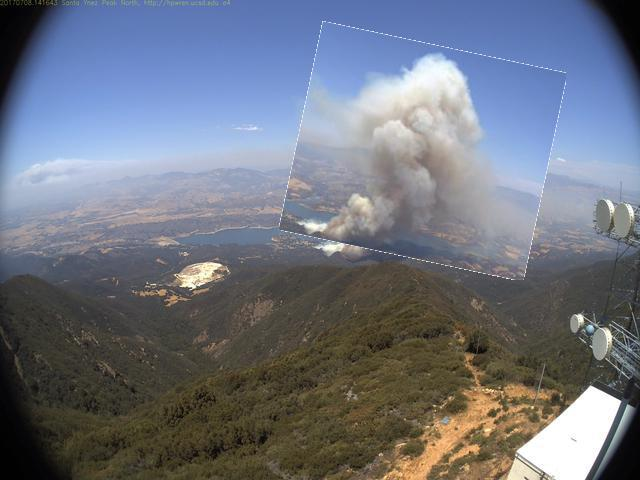smoke: (290, 34, 559, 271)
